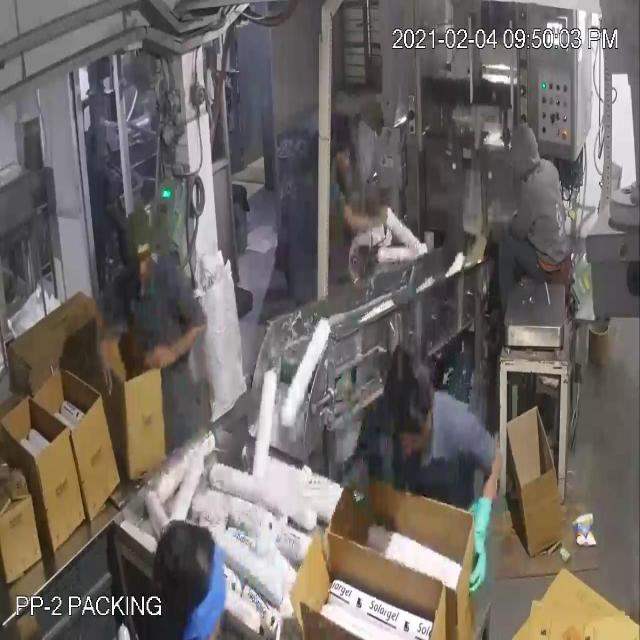No_Gloves: (44, 46, 480, 545)
